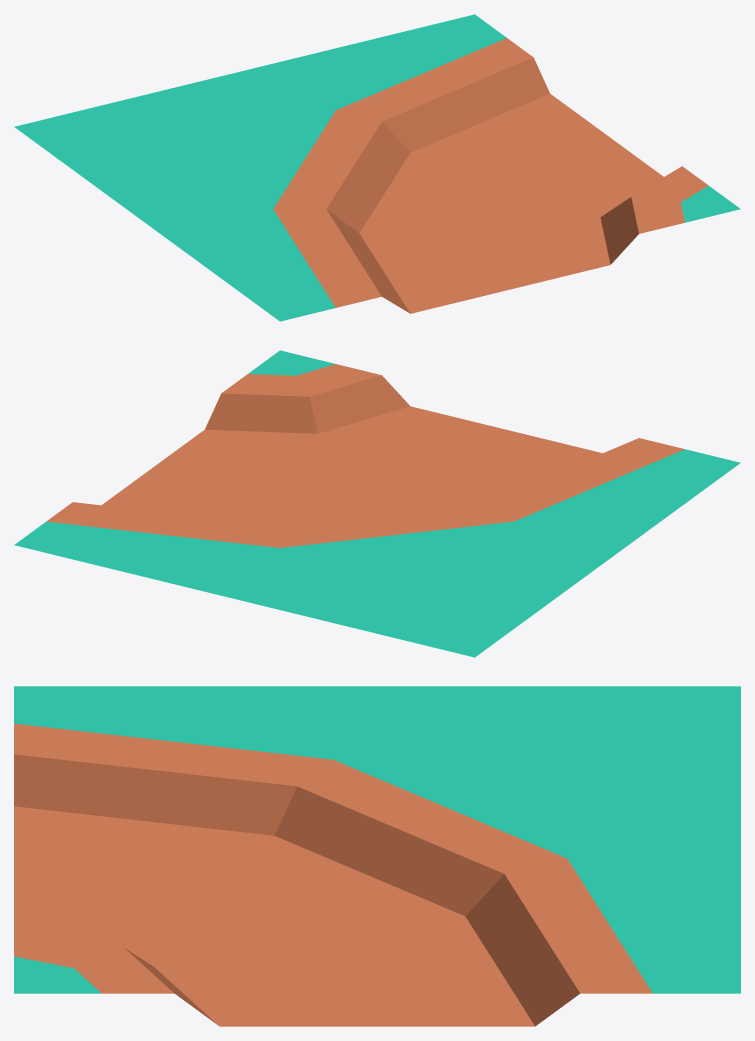
The model's file is ground_pathBend.glb.
The picture shows the model from 3 angles, top to bottom: view 1: azimuth 30°, elevation 25°; view 2: azimuth 150°, elevation 25°; view 3: azimuth 270°, elevation 25°; orthographic projection. The views are drawn at different scales.
Parts seen in each view (by area): view 1: ground_pathBend; view 2: ground_pathBend; view 3: ground_pathBend.
Part boxes in pixels (x1=…): ground_pathBend: x1=14, y1=14, x2=740, y2=321; ground_pathBend: x1=14, y1=350, x2=740, y2=657; ground_pathBend: x1=14, y1=686, x2=740, y2=1026.
Bounding box in the file's own units: 1 × 0.05 × 1.
